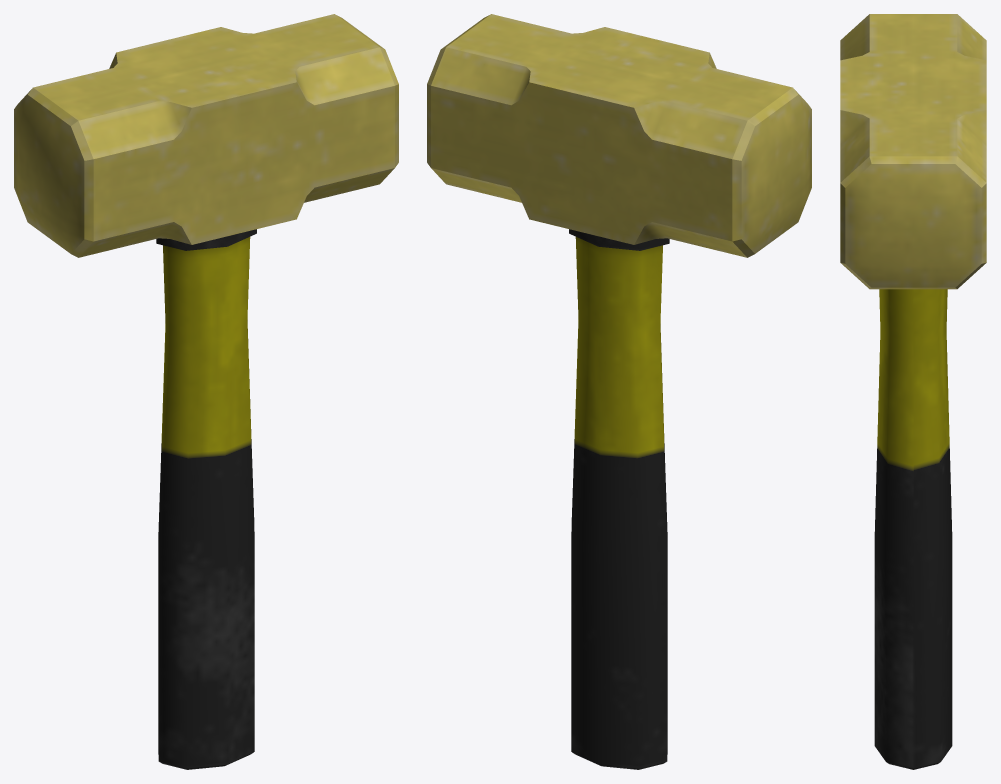
File: power_hammer.obj
The picture shows the model from 3 angles, left to right: view 1: azimuth 30°, elevation 25°; view 2: azimuth 150°, elevation 25°; view 3: azimuth 270°, elevation 25°; orthographic projection. The views are drawn at different scales.
Visible parts, largest first — view 1: Hammer_head, Grip; view 2: Hammer_head, Grip; view 3: Hammer_head, Grip.
Boxes of the visible parts, bbox=[...] form: Hammer_head: bbox=[14, 14, 398, 257]; Grip: bbox=[156, 229, 256, 769]; Hammer_head: bbox=[427, 14, 811, 257]; Grip: bbox=[569, 229, 669, 769]; Hammer_head: bbox=[840, 14, 986, 289]; Grip: bbox=[874, 289, 952, 769].
Size of the model in its own units: 0.4999 by 1 by 0.2.
